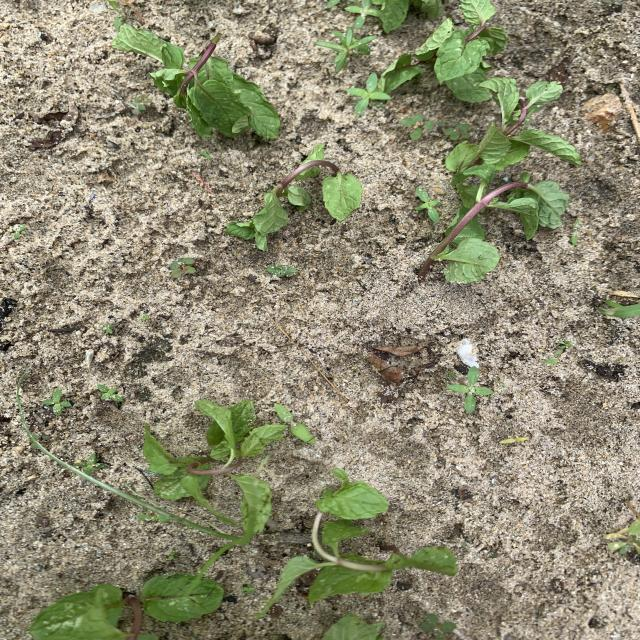crop: (264, 470, 457, 606), (112, 23, 278, 139), (143, 400, 286, 522), (424, 169, 569, 281), (225, 144, 362, 248), (445, 80, 580, 178), (28, 574, 221, 639), (382, 0, 508, 95), (231, 473, 271, 544), (372, 0, 443, 34), (323, 615, 385, 639)
weed: (19, 404, 252, 578), (315, 28, 375, 71), (448, 367, 492, 411), (606, 503, 639, 555), (347, 73, 389, 113), (274, 404, 315, 443), (345, 0, 378, 28), (420, 614, 455, 639), (401, 115, 436, 139), (110, 1, 143, 26), (42, 388, 71, 415), (416, 188, 439, 222), (599, 303, 639, 317), (76, 454, 106, 472), (438, 121, 468, 139), (97, 385, 123, 403), (170, 257, 195, 275), (266, 264, 296, 277), (131, 94, 150, 114), (12, 224, 27, 239), (557, 340, 571, 354), (501, 437, 527, 443), (100, 325, 112, 335), (199, 150, 211, 159), (242, 585, 255, 593), (542, 358, 558, 363), (327, 1, 339, 7)
